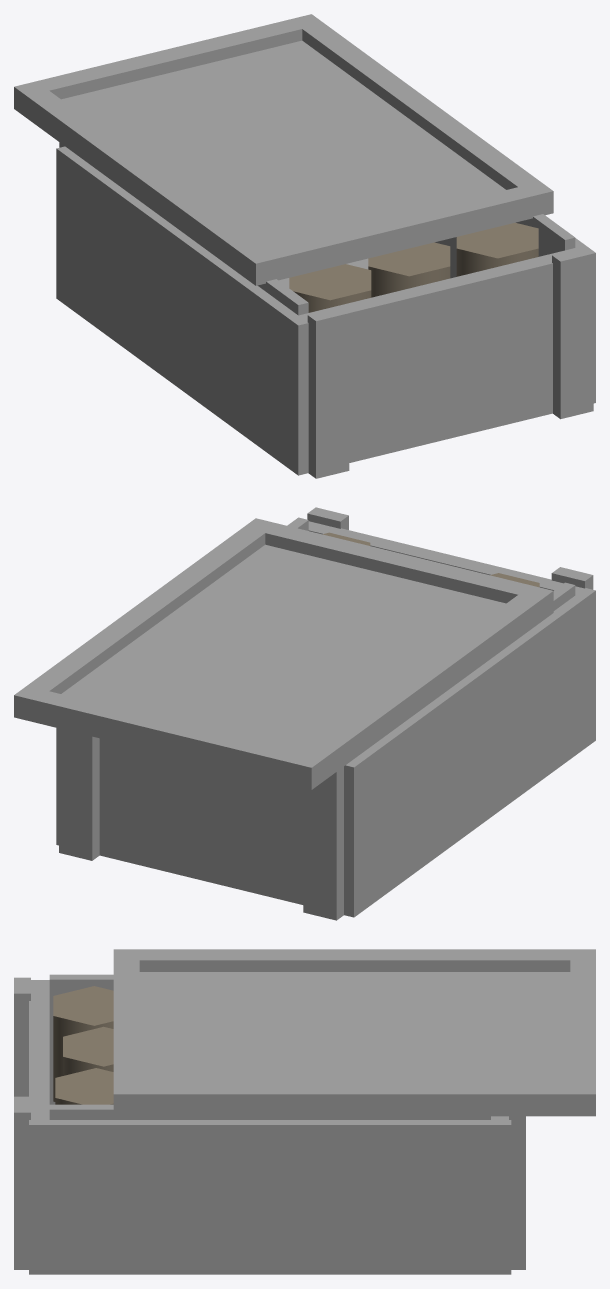
File: mesh_CrateOpen.fbx
3 renders of one model, top to bottom at view 1: azimuth 30°, elevation 25°; view 2: azimuth 150°, elevation 25°; view 3: azimuth 270°, elevation 25°, orthographic.
Visible parts, largest first — view 1: mesh_CrateOpen; view 2: mesh_CrateOpen; view 3: mesh_CrateOpen.
Part boxes in pixels (left/top/right/bottom): mesh_CrateOpen: left=14, top=14, right=595, bottom=478; mesh_CrateOpen: left=14, top=507, right=595, bottom=920; mesh_CrateOpen: left=14, top=949, right=595, bottom=1274.
Bounding box in the file's own units: 30.54 × 17.74 × 51.86.
